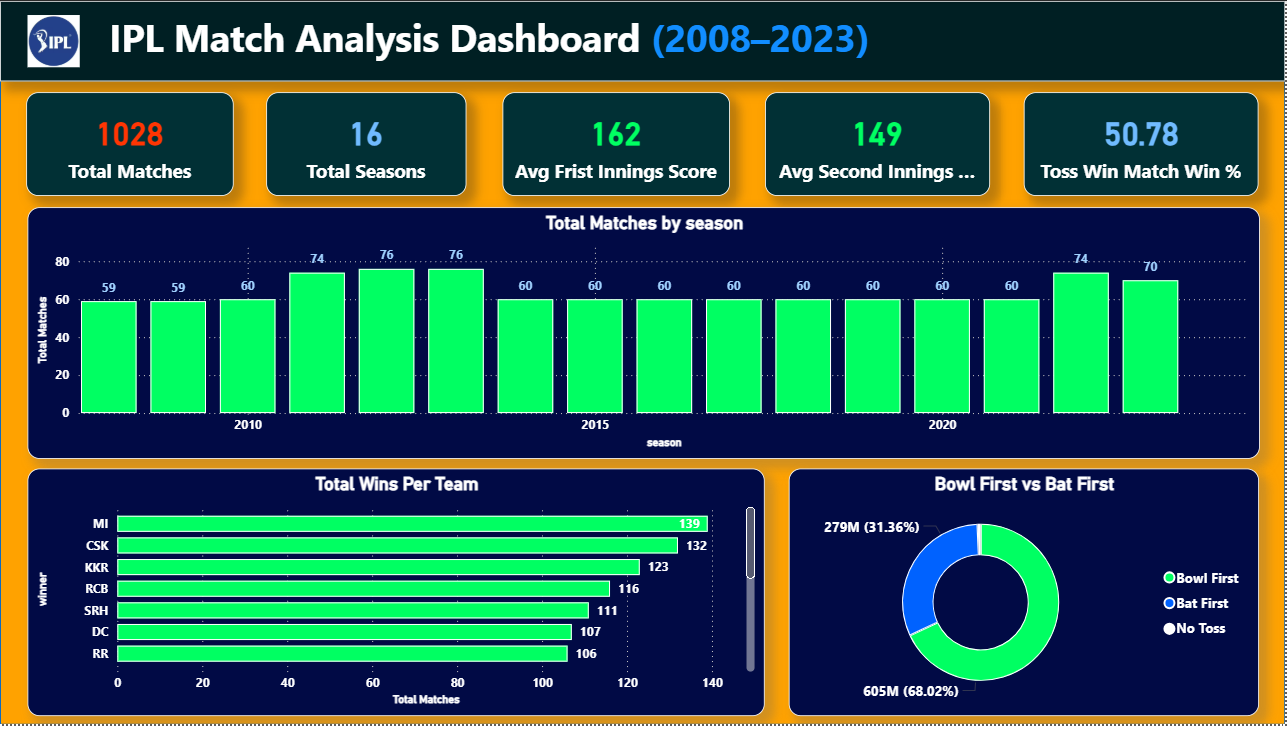

The page's visual inventory and layout, read from the dashboard file:
{"tool":"powerbi","page":{"name":"Page 1","canvas":[1280,720],"ordinal":0},"visuals":[{"type":"shape","box":[0,0,1280,720.3],"z":0},{"type":"textbox","box":[0,0,1280,79.6],"z":1000},{"type":"card","fields":{"Values":["Cricket.Total Matches"]},"box":[26.1,91.2,206.5,103.2],"z":2000},{"type":"card","fields":{"Values":["Cricket.Total Seasons"]},"box":[265,91.2,199,103.2],"z":3000},{"type":"card","fields":{"Values":["Cricket.Avg Frist Innings Score"]},"box":[500.1,91.2,226.4,103.2],"z":4000},{"type":"card","fields":{"Values":["Cricket.Toss Win Match Win %"]},"box":[1018.8,91.2,233.9,103.2],"z":5000},{"type":"card","fields":{"Values":["Cricket.Avg Second Innings Score"]},"box":[761.3,91.2,223.9,103.2],"z":6000},{"type":"clusteredColumnChart","fields":{"Category":["Cricket.season"],"Y":["Cricket.Total Matches"]},"box":[265,205.3,988.9,250],"z":7000},{"type":"clusteredBarChart","title":"Total Wins Per Team","fields":{"Category":["Cricket.winner"],"Y":["Cricket.Total Matches"]},"box":[27.4,465.2,733.9,246.3],"z":8000},{"type":"donutChart","title":"Bowl First vs Bat First","fields":{"Category":["Cricket.decision"],"Y":["CountNonNull(Cricket.id)"]},"box":[784.9,465.2,467.7,246.3],"z":9000},{"type":"image","box":[27.4,10,52.2,59.7],"z":10000},{"type":"slicer","fields":{"Values":["Cricket.season"]},"box":[928,2.5,235.1,74.6],"z":11000},{"type":"slicer","title":"Decision","fields":{"Values":["Cricket.decision"]},"box":[27.4,205.3,205.3,250],"z":12000},{"type":"actionButton","box":[1186.7,7.5,80.9,64.7],"z":13000}]}

Visuals, with their boxes in screenshot pixels (x1, y1, x2, y2), scaled from the page's 1280x720 canvas onto the 1287x733 screenshot:
shape: (x1=0, y1=0, x2=1286, y2=732)
textbox: (x1=0, y1=0, x2=1286, y2=81)
card - Cricket.Total Matches: (x1=26, y1=93, x2=234, y2=198)
card - Cricket.Total Seasons: (x1=266, y1=93, x2=467, y2=198)
card - Cricket.Avg Frist Innings Score: (x1=503, y1=93, x2=730, y2=198)
card - Cricket.Toss Win Match Win %: (x1=1024, y1=93, x2=1260, y2=198)
card - Cricket.Avg Second Innings Score: (x1=765, y1=93, x2=991, y2=198)
clusteredColumnChart - Cricket.season x Cricket.Total Matches: (x1=266, y1=209, x2=1261, y2=464)
"Total Wins Per Team" clusteredBarChart: (x1=28, y1=474, x2=765, y2=724)
"Bowl First vs Bat First" donutChart: (x1=789, y1=474, x2=1259, y2=724)
image: (x1=28, y1=10, x2=80, y2=71)
slicer - Cricket.season: (x1=933, y1=3, x2=1169, y2=78)
"Decision" slicer: (x1=28, y1=209, x2=234, y2=464)
actionButton: (x1=1193, y1=8, x2=1275, y2=74)
